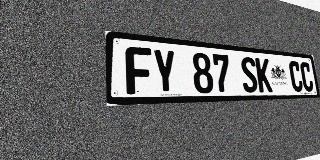7: (211, 54, 232, 93)
8: (191, 52, 214, 93)
C: (288, 61, 304, 92), (299, 62, 314, 92)
F: (125, 46, 153, 94)
K: (255, 58, 273, 92)
S: (240, 56, 259, 93)
Y: (152, 48, 177, 94)
